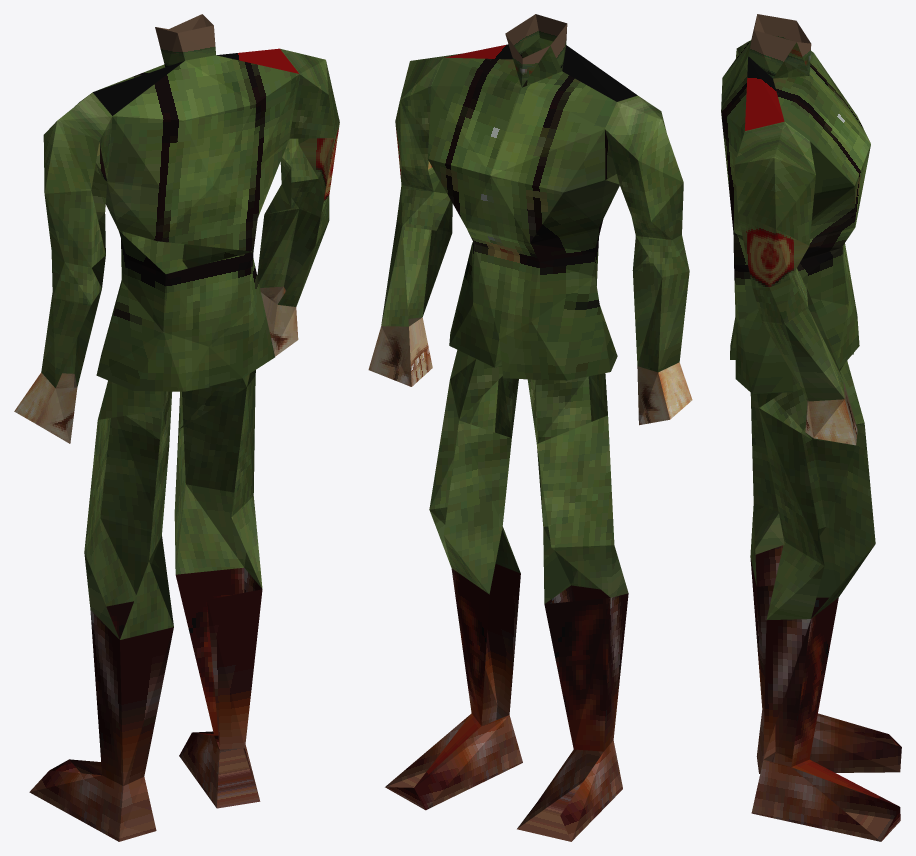
File: primary_144.glb
3 views of the same model, side by side, from view 1: azimuth 30°, elevation 25°; view 2: azimuth 150°, elevation 25°; view 3: azimuth 270°, elevation 25° (orthographic). The views are drawn at different scales.
Visible parts, largest first — view 1: Object; view 2: Object; view 3: Object.
Boxes of the visible parts, box(x1,y1,x2,y2) form: Object: box(14, 14, 339, 841); Object: box(368, 14, 692, 841); Object: box(721, 14, 901, 841).
Bounding box in the file's own units: 0.7427 × 1.83 × 0.3882.
Materials: 64 (64 with a texture image).
